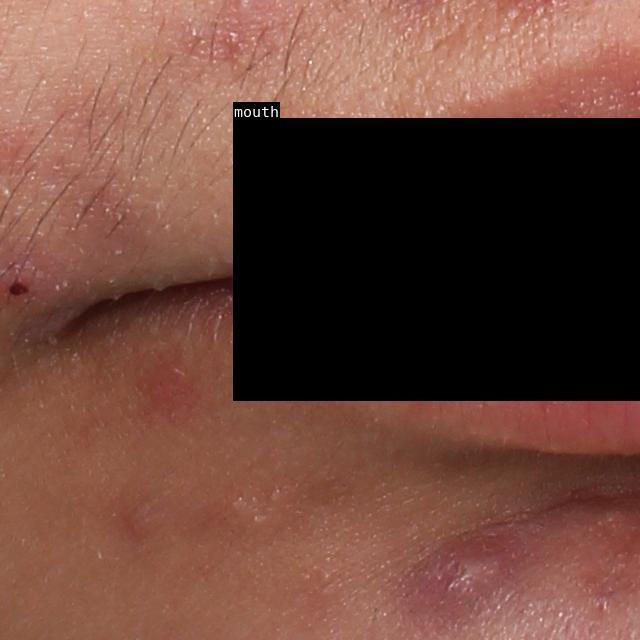papule: (401, 529, 531, 622), (137, 350, 206, 401), (123, 499, 165, 542)
